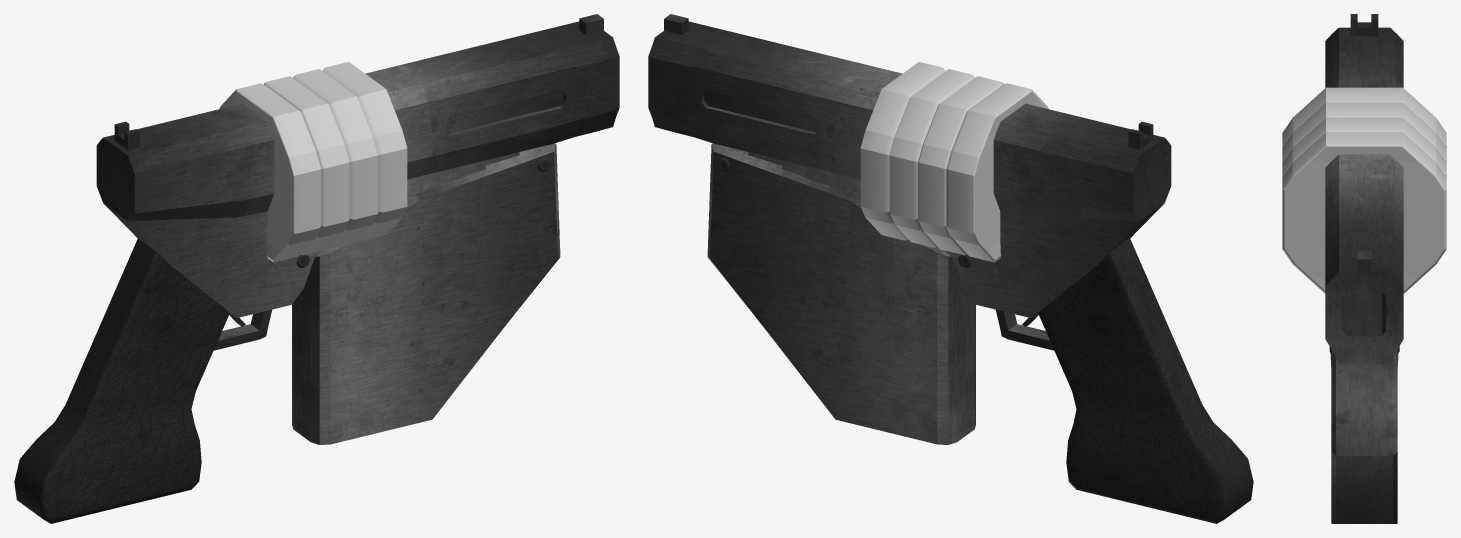
File: gunfinal.fbx
3 views of the same model, side by side, from view 1: azimuth 30°, elevation 25°; view 2: azimuth 150°, elevation 25°; view 3: azimuth 270°, elevation 25° (orthographic). The views are drawn at different scales.
Parts seen in each view (by area): view 1: pCylinder5, grip, coil; view 2: pCylinder5, grip, coil; view 3: pCylinder5, coil.
Boxes of the visible parts, x1,y1,x2,y2 form: pCylinder5: [96, 14, 619, 444]; grip: [14, 238, 229, 523]; coil: [219, 62, 407, 262]; pCylinder5: [648, 14, 1171, 444]; grip: [1038, 238, 1253, 523]; coil: [860, 62, 1048, 262]; pCylinder5: [1325, 14, 1403, 523]; coil: [1282, 87, 1446, 293].
Bounding box in the file's own units: 10.93 × 6.64 × 2.63.
